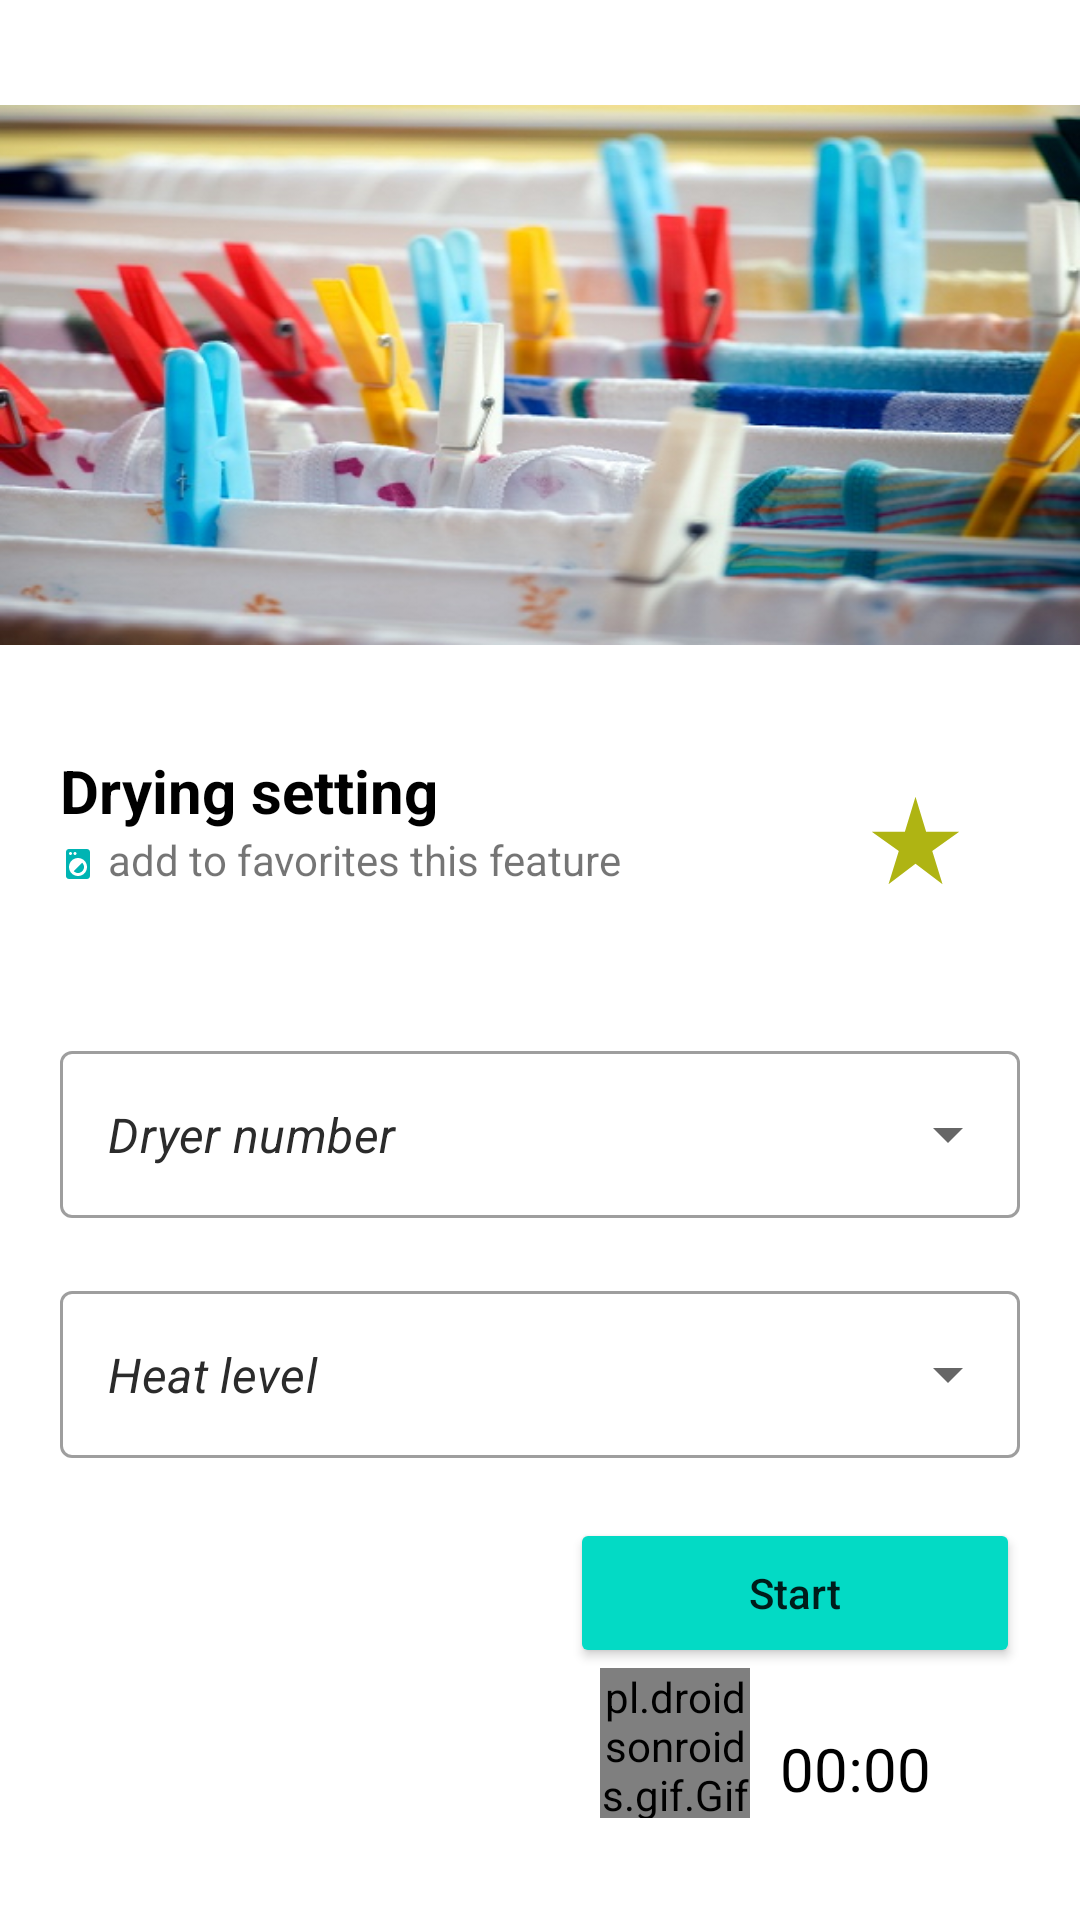

Where to tap for icons on this 1080 × 1920 app screen, as point (x, y):
local laundry service: point (78, 864)
star rate: point (915, 840)
